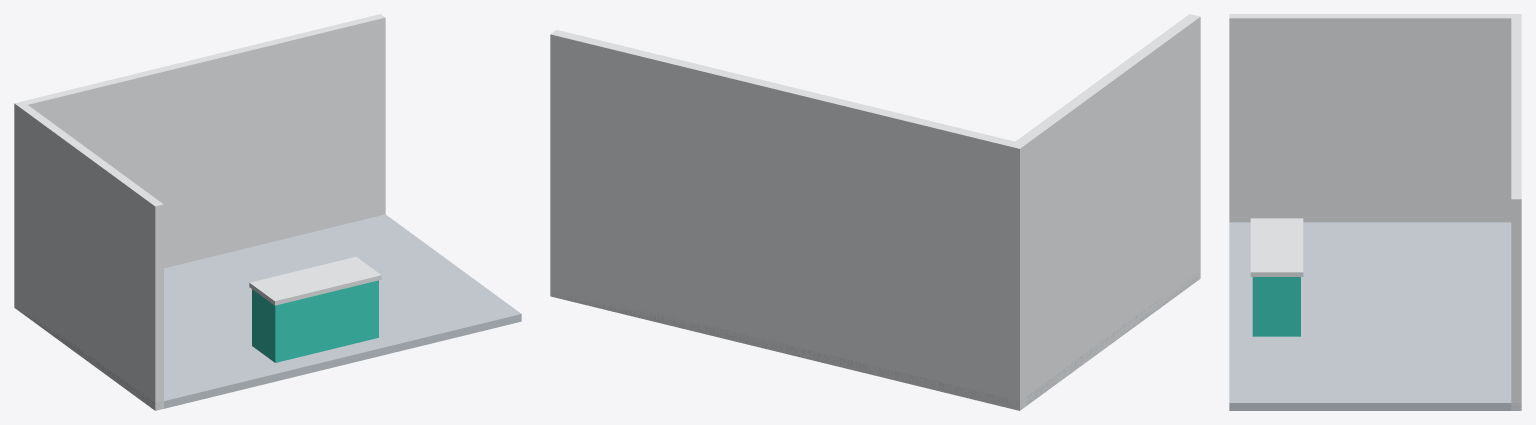
3 renders of one model, left to right at view 1: azimuth 30°, elevation 25°; view 2: azimuth 150°, elevation 25°; view 3: azimuth 270°, elevation 25°, orthographic. The views are drawn at different scales.
Parts seen in each view (by area): view 1: Exhibition Booth Concept; view 2: Exhibition Booth Concept; view 3: Exhibition Booth Concept.
Part boxes in pixels (<box>): Exhibition Booth Concept: <box>14,14,521,410</box>; Exhibition Booth Concept: <box>550,14,1200,410</box>; Exhibition Booth Concept: <box>1229,14,1521,410</box>.
Size of the model in its own units: 6 by 3.2 by 4.
